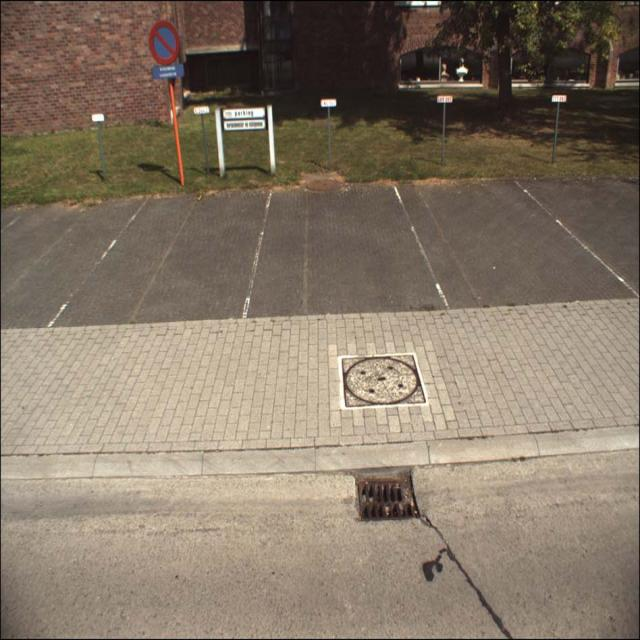parkyasak: (149, 21, 180, 66)
